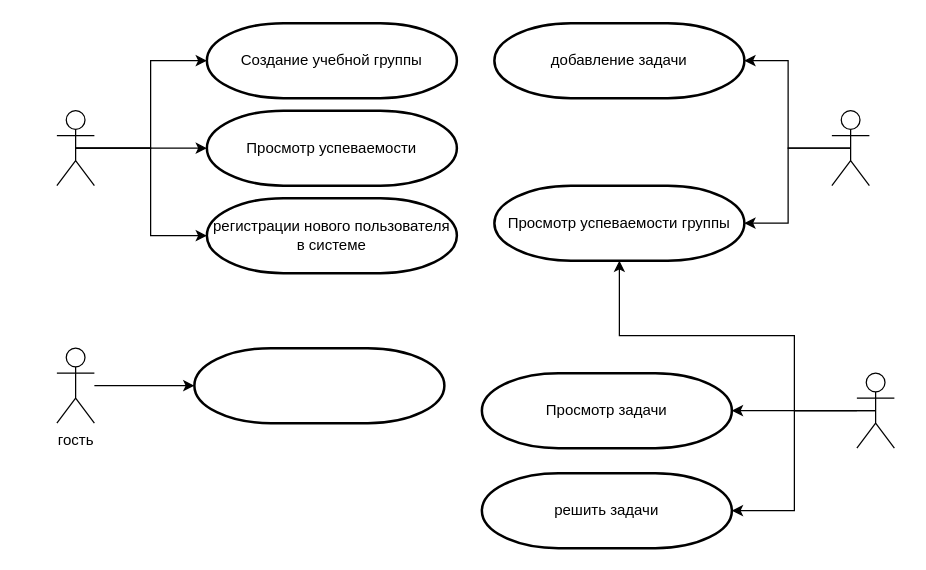
Some shapes in this 926 by 570 pixel diagram are drawn without their labels. Each missing label, with the centre of its shape:
"авторизации" belongs at (x=318, y=385).
"Администратор" belongs at (x=75, y=147).
"Преподаватель" belongs at (x=850, y=147).
"Студент" belongs at (x=875, y=410).
